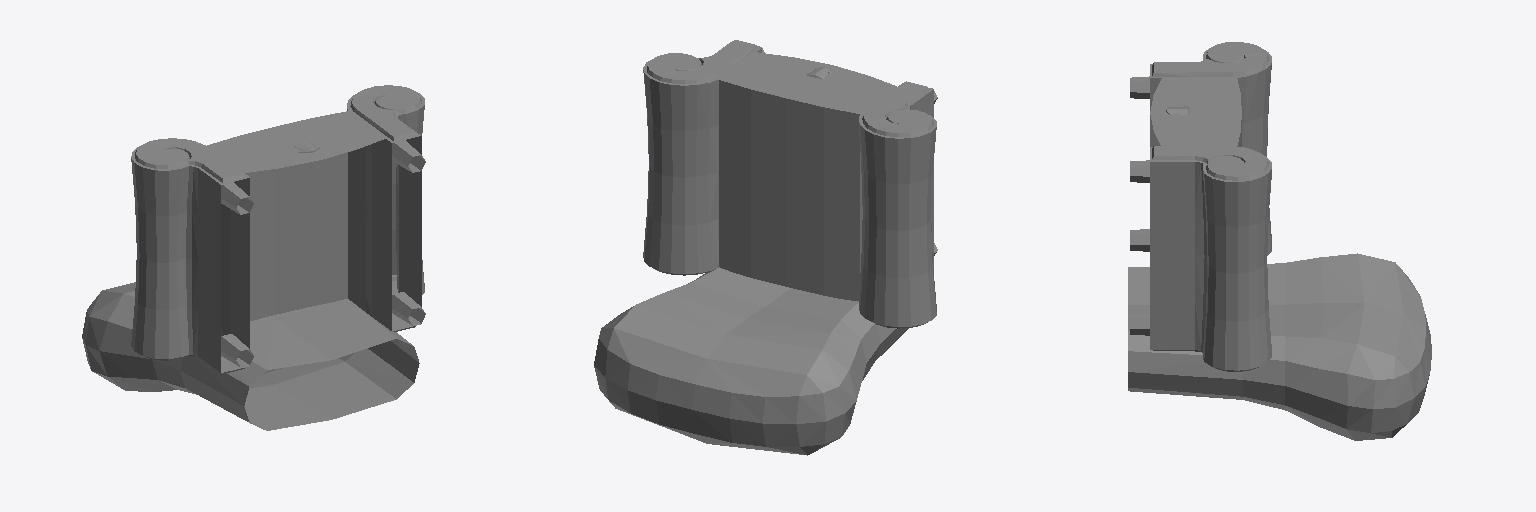
The model's file is HomeChairR.obj.
3 views of the same model, side by side, from view 1: azimuth 30°, elevation 25°; view 2: azimuth 150°, elevation 25°; view 3: azimuth 270°, elevation 25° (orthographic).
Visible parts, largest first — view 1: ChairR__BodyRMT; view 2: ChairR__BodyRMT; view 3: ChairR__BodyRMT.
Boxes of the visible parts, box(x1,y1,x2,y2) form: ChairR__BodyRMT: box(82, 85, 425, 430); ChairR__BodyRMT: box(594, 40, 937, 455); ChairR__BodyRMT: box(1128, 42, 1431, 440).
Bounding box in the file's own units: 173 × 170 × 159.